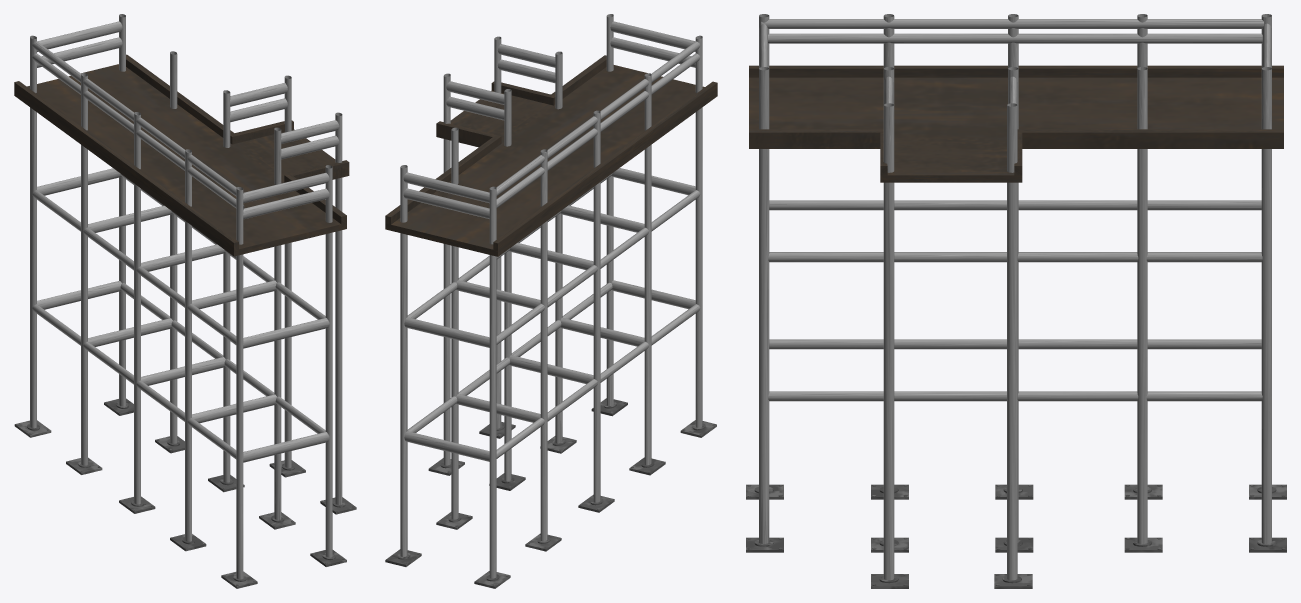
Rendered from Scaffolds.fbx.
3 renders of one model, left to right at view 1: azimuth 30°, elevation 25°; view 2: azimuth 150°, elevation 25°; view 3: azimuth 270°, elevation 25°, orthographic. The views are drawn at different scales.
Parts seen in each view (by area): view 1: Scaffold; view 2: Scaffold; view 3: Scaffold.
Part boxes in pixels (<box>): Scaffold: <box>14,14,356,588</box>; Scaffold: <box>385,14,717,588</box>; Scaffold: <box>746,14,1286,588</box>.
Bounding box in the file's own units: 339 × 735 × 754.
Materials: 1 (1 with a texture image).
